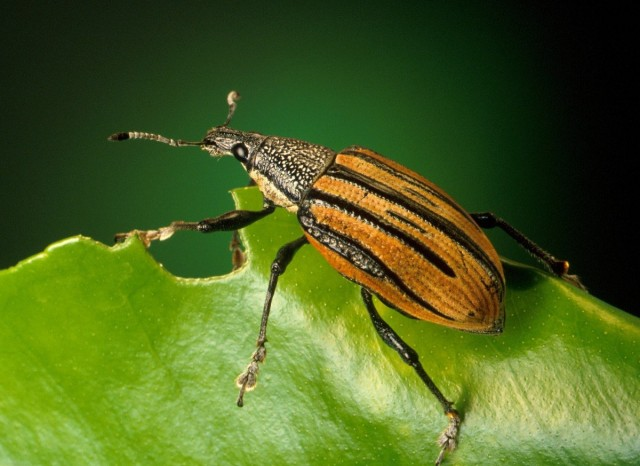dolgonosik: (99, 88, 589, 465)
